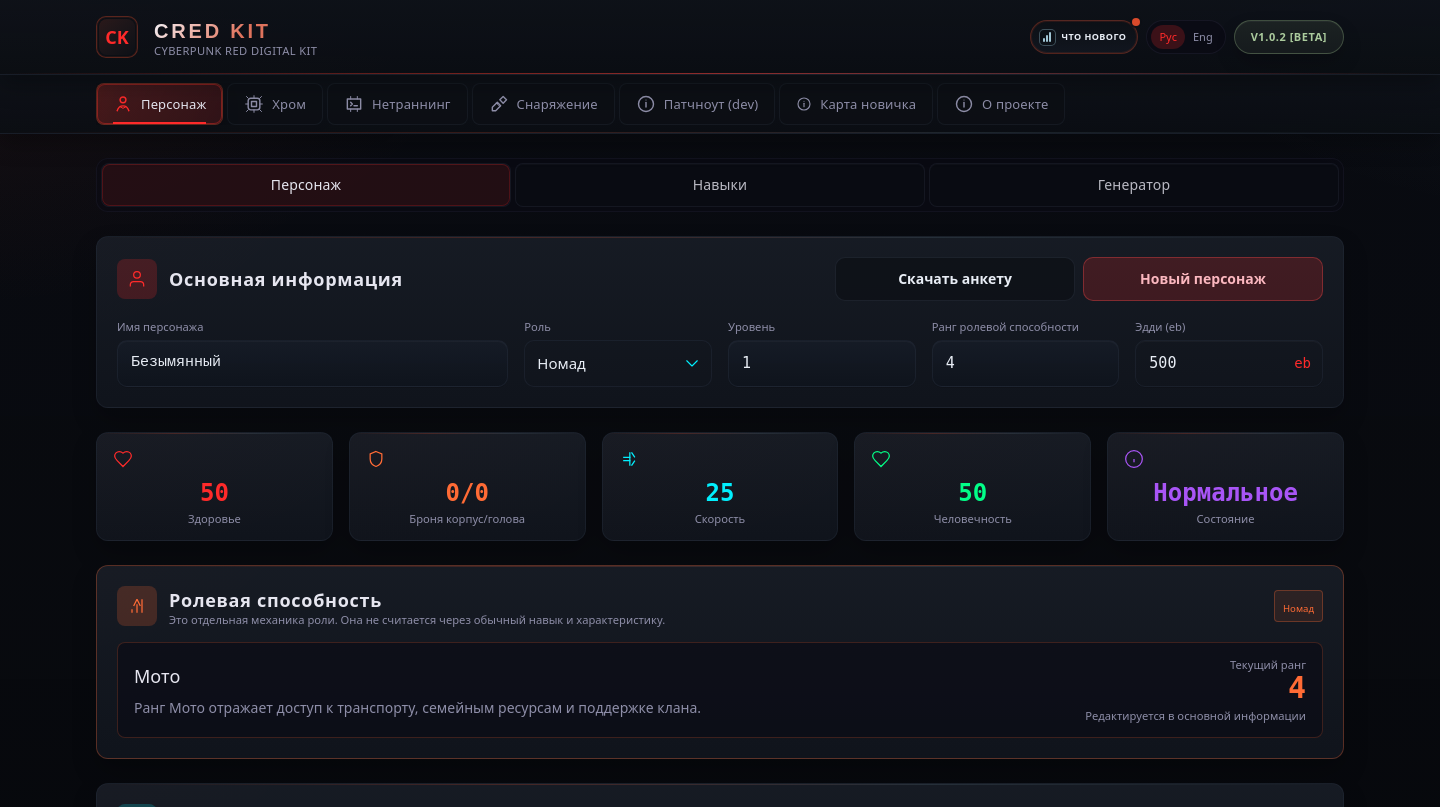
Test case: App shell component › в окне "Новое" доступна только кнопка подтверждения "Круто"
Click the button with test id "whats-new-open" at (1084, 37), box [1030,20,1138,54]
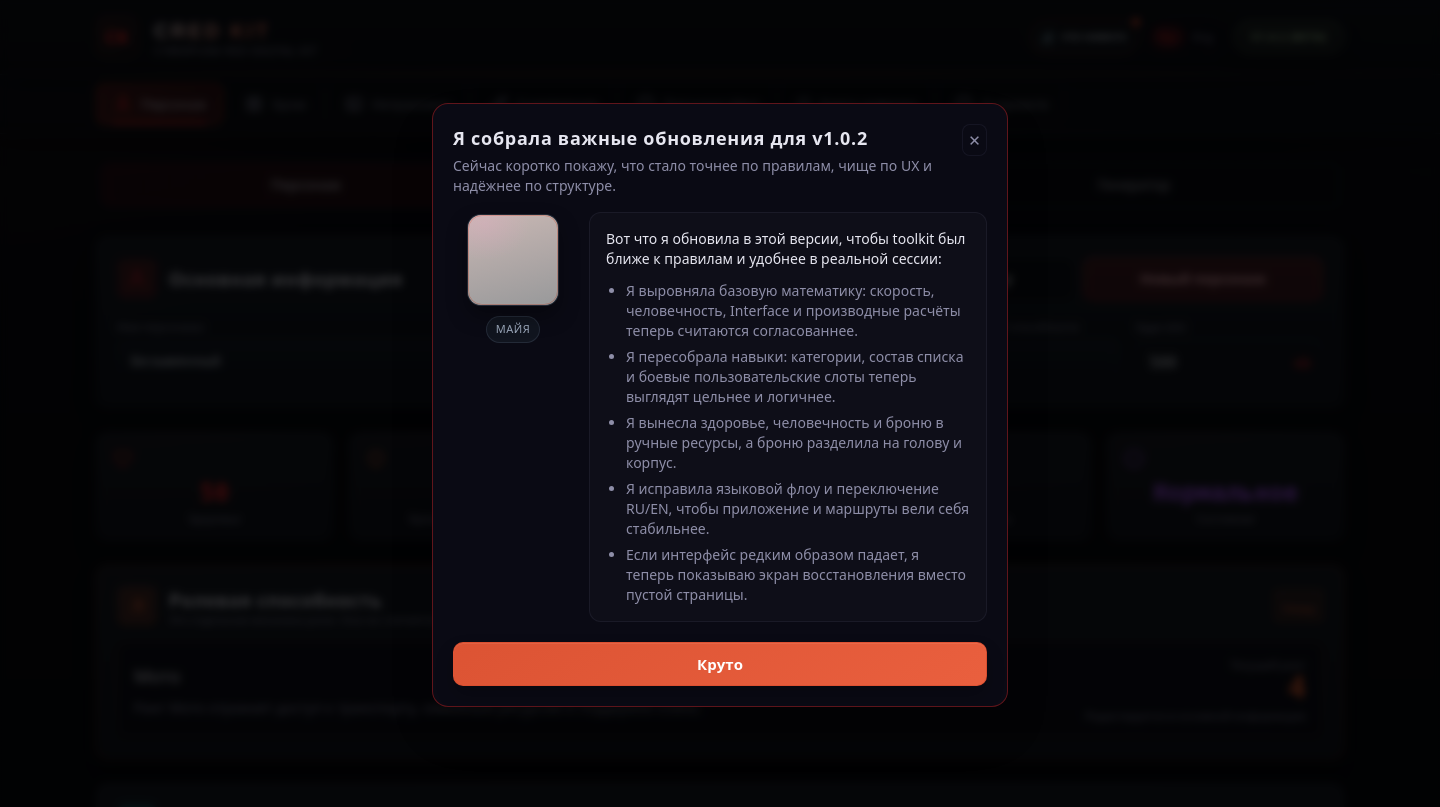
Result: the dialog with test id "whats-new-alert" is shown at [432,103,1008,707]
Result: the button "Круто" is shown at [453,642,987,686]
